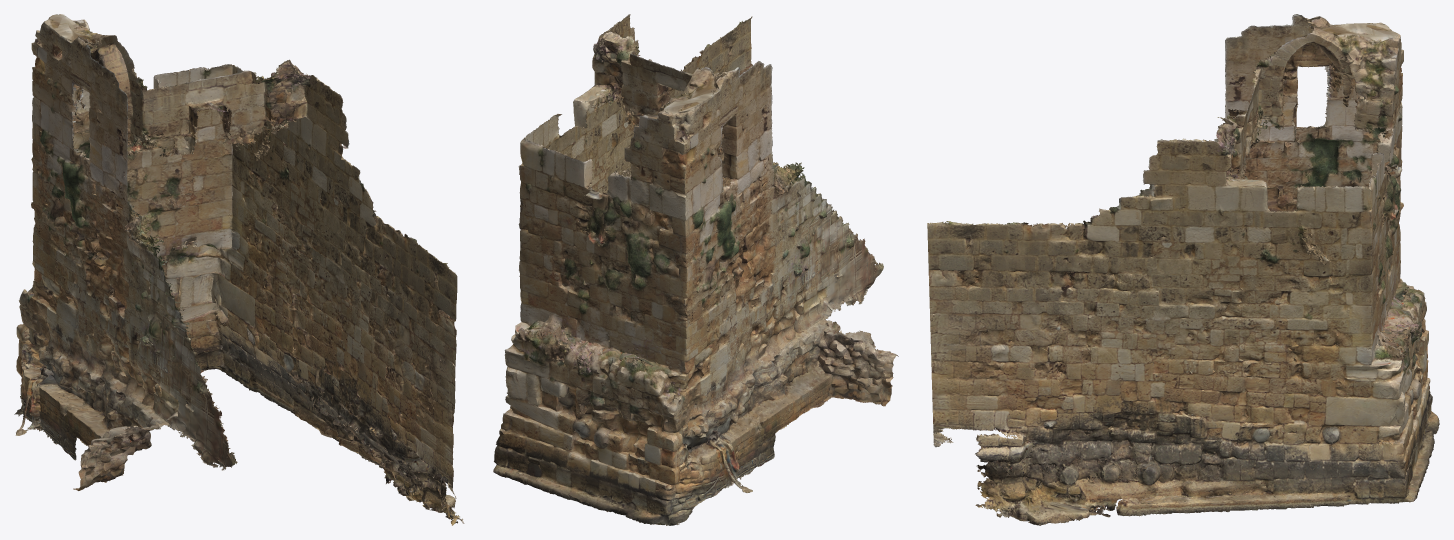
File: byblos_tower.glb
3 renders of one model, left to right at view 1: azimuth 30°, elevation 25°; view 2: azimuth 150°, elevation 25°; view 3: azimuth 270°, elevation 25°, orthographic. The views are drawn at different scales.
Parts seen in each view (by area): view 1: byblos-turm_lp; view 2: byblos-turm_lp; view 3: byblos-turm_lp.
Part boxes in pixels (x1,y1,x2,y2): byblos-turm_lp: [14, 14, 464, 525]; byblos-turm_lp: [493, 14, 898, 525]; byblos-turm_lp: [927, 14, 1439, 525].
Bounding box in the file's own units: 7.15 × 9 × 10.35.
Materials: 1 (1 with a texture image).
